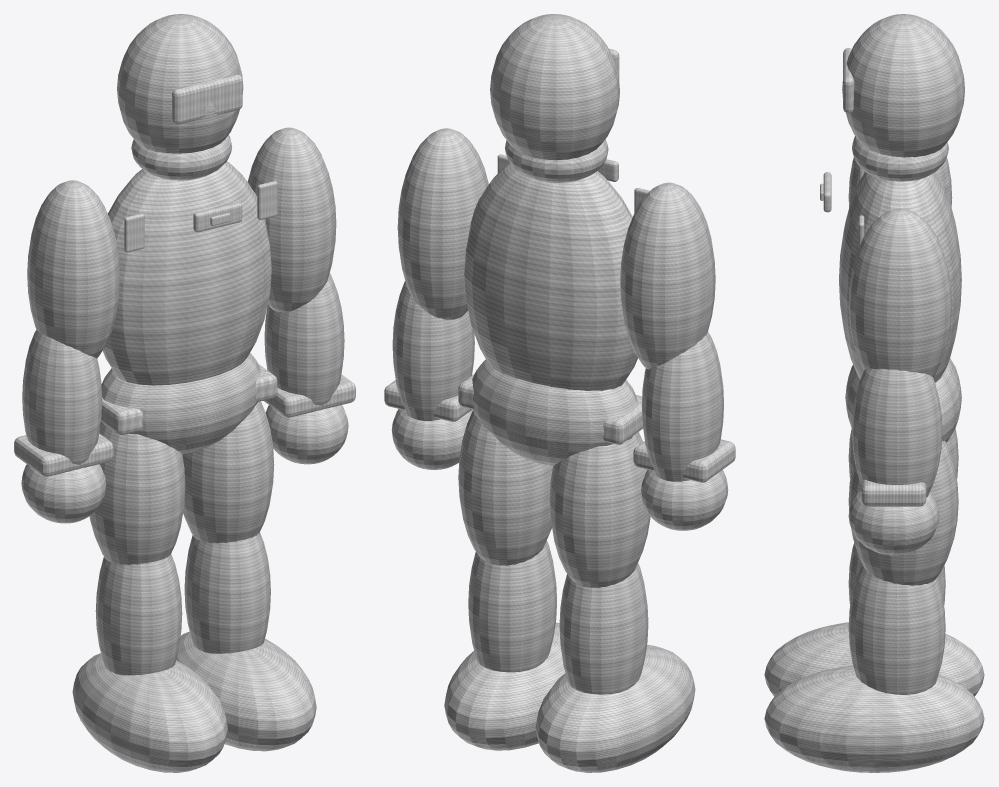
The model's file is hazmat_suit_variant_a.glb.
3 views of the same model, side by side, from view 1: azimuth 30°, elevation 25°; view 2: azimuth 150°, elevation 25°; view 3: azimuth 270°, elevation 25° (orthographic). The views are drawn at different scales.
Parts seen in each view (by area): view 1: Torso suit shell, Boot.001, Upper arm suit, Helmet placeholder.001, Upper arm suit.001, Thigh suit, Boot.002, Thigh suit.001, Shin suit.002, Shin suit.001, Hip section.001, Forearm suit.001 (+11 smaller); view 2: Torso suit shell, Helmet placeholder.001, Upper arm suit, Boot.001, Upper arm suit.001, Thigh suit, Thigh suit.001, Hip section.001, Shin suit.002, Shin suit.001, Forearm suit.001, Boot.002 (+7 smaller); view 3: Boot.002, Upper arm suit.001, Helmet placeholder.001, Shin suit.002, Forearm suit.002, Torso suit shell, Boot.001, Thigh suit.001, Glove.002, Neck seal.001, Hip section.001, Wrist seal.001 (+4 smaller).
Part boxes in pixels (x1,y1,x2,y2): Torso suit shell: (102,161,271,385); Boot.001: (72,653,227,772); Upper arm suit: (27,180,119,358); Helmet placeholder.001: (117,14,243,153); Upper arm suit.001: (247,127,336,312); Thigh suit: (89,422,185,564); Boot.002: (176,631,316,751); Thigh suit.001: (182,401,274,543); Shin suit.002: (184,532,270,653); Shin suit.001: (95,554,182,675); Hip section.001: (101,353,260,453); Forearm suit.001: (22,330,102,469); Torso suit shell: (464,163,637,390); Helmet placeholder.001: (490,14,619,160); Upper arm suit: (620,182,715,369); Boot.001: (535,645,695,772); Upper arm suit.001: (397,128,488,319); Thigh suit: (549,432,650,587); Thigh suit.001: (458,410,552,565); Hip section.001: (472,359,637,466); Shin suit.002: (468,540,556,672); Shin suit.001: (559,563,648,694); Forearm suit.001: (641,332,723,481); Boot.002: (444,622,565,750); Boot.002: (764,665,984,772); Upper arm suit.001: (848,208,952,377); Helmet placeholder.001: (842,14,964,157); Shin suit.002: (848,564,945,694); Forearm suit.002: (852,369,942,497); Torso suit shell: (839,172,961,382); Boot.001: (764,622,984,696); Thigh suit.001: (848,441,958,585); Glove.002: (848,489,939,555); Neck seal.001: (852,136,948,181); Hip section.001: (845,358,961,442); Wrist seal.001: (861,479,926,506).
Size of what is drawn, in the model's own units: 1.13 by 2.47 by 0.68.
7 materials, 7 textured.
